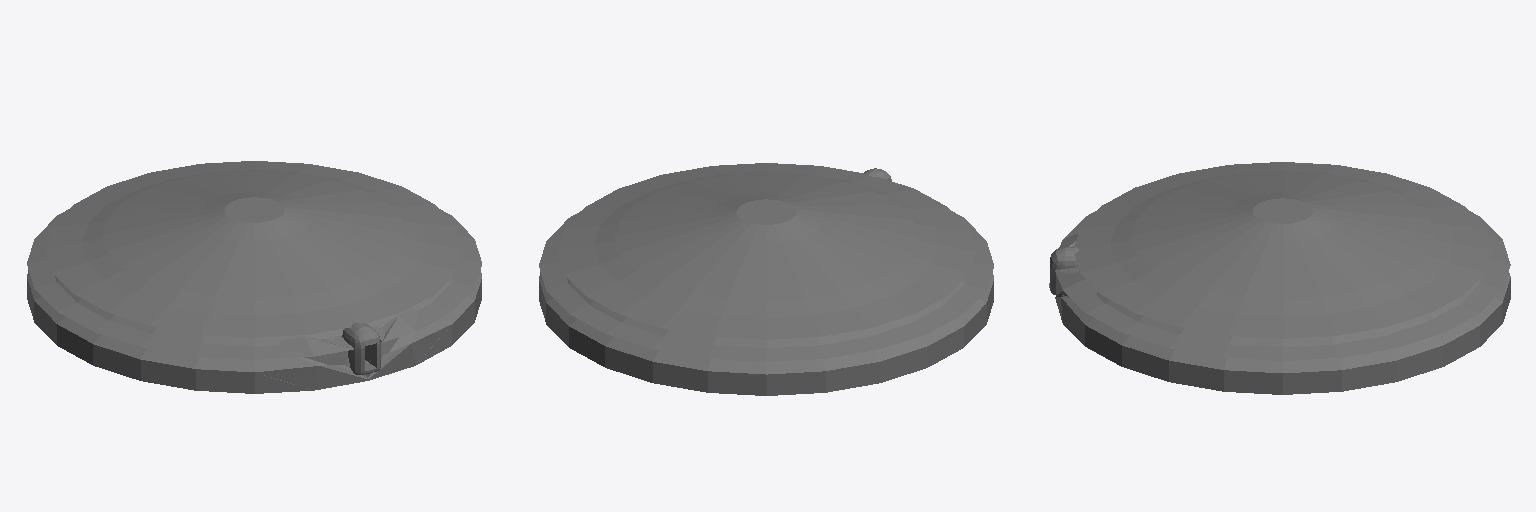
The model's file is CloneFactory_BaseV3_T.obj.
The picture shows the model from 3 angles: view 1: azimuth 30°, elevation 25°; view 2: azimuth 150°, elevation 25°; view 3: azimuth 270°, elevation 25°; orthographic projection.
Visible parts, largest first — view 1: CloneFactory_BaseV3_T.obj; view 2: CloneFactory_BaseV3_T.obj; view 3: CloneFactory_BaseV3_T.obj.
Part boxes in pixels (bbox=[...]): CloneFactory_BaseV3_T.obj: bbox=[27, 161, 481, 393]; CloneFactory_BaseV3_T.obj: bbox=[539, 163, 993, 395]; CloneFactory_BaseV3_T.obj: bbox=[1049, 162, 1510, 394].
Size of the model in its own units: 1000 by 217 by 1012.